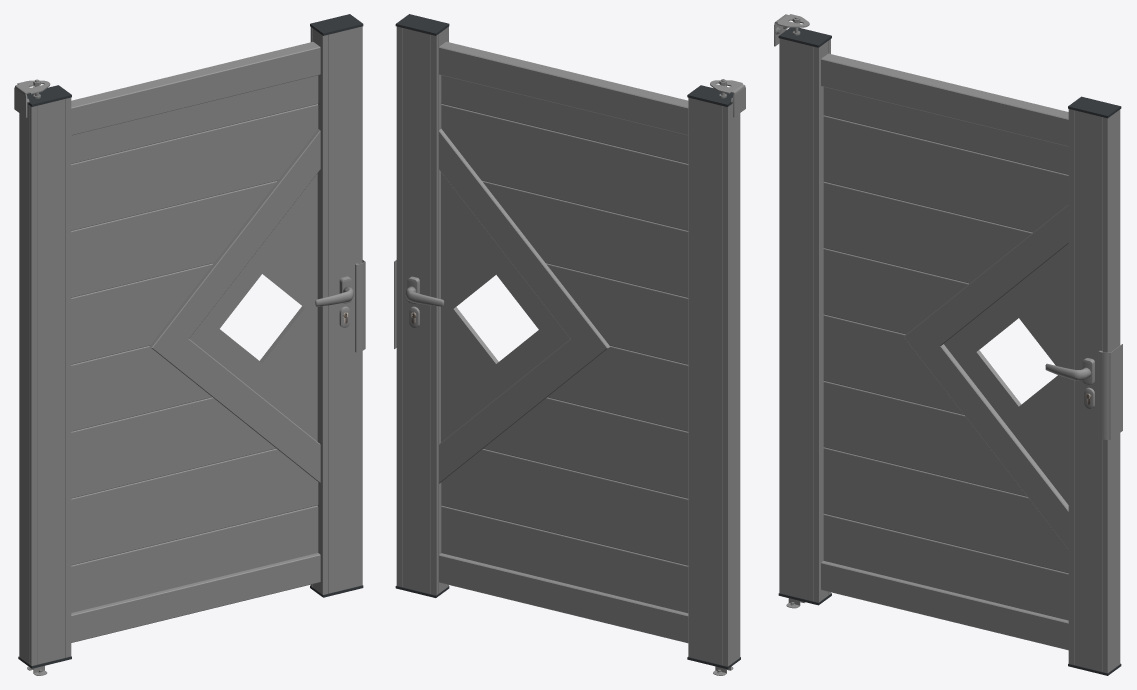
3 views of the same model, side by side, from view 1: azimuth 30°, elevation 25°; view 2: azimuth 150°, elevation 25°; view 3: azimuth 330°, elevation 25° (orthographic).
Parts seen in each view (by area): view 1: Shape107412274, Shape107412643, Shape107412644, losange, Shape107412674, Shape107412271, Shape107412272, Shape107412637, Box2403, Rectangle057, Box2401; view 2: Shape107412274, Shape107412643, Shape107412644, losange, Shape107412674, Shape107412271, Shape107412272, Box2403, Rectangle057, Box2401; view 3: Shape107412274, Shape107412644, Shape107412643, losange, Shape107412674, Shape107412271, Shape107412272, Shape107412637, Box2403, Box2401.
Part boxes in pixels (bbox=[...]): Shape107412274: bbox=[71, 75, 318, 612]; Shape107412643: bbox=[19, 97, 71, 665]; Shape107412644: bbox=[310, 26, 362, 594]; losange: bbox=[189, 173, 317, 441]; Shape107412674: bbox=[149, 129, 320, 483]; Shape107412271: bbox=[71, 42, 320, 135]; Shape107412272: bbox=[71, 553, 320, 642]; Shape107412637: bbox=[355, 260, 365, 352]; Box2403: bbox=[310, 14, 363, 35]; Rectangle057: bbox=[14, 80, 50, 117]; Box2401: bbox=[26, 85, 71, 106]; Shape107412274: bbox=[441, 75, 688, 613]; Shape107412643: bbox=[688, 97, 740, 666]; Shape107412644: bbox=[396, 26, 448, 595]; losange: bbox=[441, 172, 569, 442]; Shape107412674: bbox=[439, 128, 610, 483]; Shape107412271: bbox=[439, 41, 688, 135]; Shape107412272: bbox=[439, 553, 688, 643]; Box2403: bbox=[395, 14, 449, 35]; Rectangle057: bbox=[710, 80, 745, 117]; Box2401: bbox=[687, 85, 733, 106]; Shape107412274: bbox=[823, 87, 1068, 620]; Shape107412644: bbox=[1068, 109, 1120, 672]; Shape107412643: bbox=[779, 38, 830, 602]; losange: bbox=[944, 244, 1068, 504]; Shape107412674: bbox=[903, 204, 1068, 548]; Shape107412271: bbox=[821, 53, 1068, 146]; Shape107412272: bbox=[821, 561, 1068, 650]; Shape107412637: bbox=[1098, 344, 1122, 439]; Box2403: bbox=[1068, 96, 1121, 118]; Box2401: bbox=[778, 27, 831, 47].
Bounding box in the file's own units: 1014 × 1688 × 171.
Materials: 8 (4 with a texture image).
